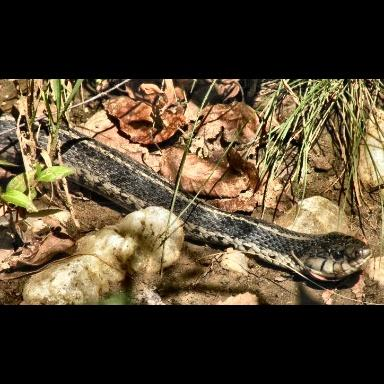snake: (60, 138, 372, 280)
